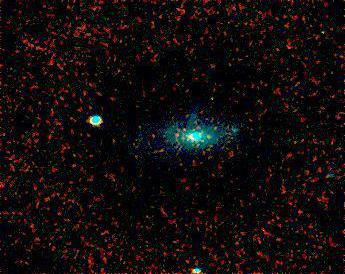star: (197, 125, 227, 155)
